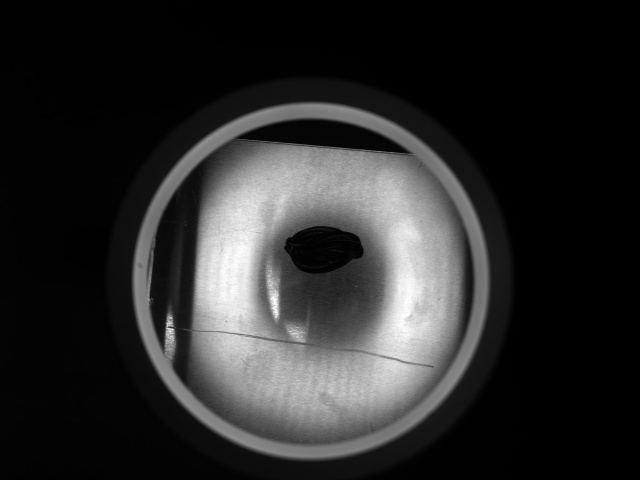ca_shang: (165, 320, 438, 364)
zang_wu: (283, 223, 366, 275)
